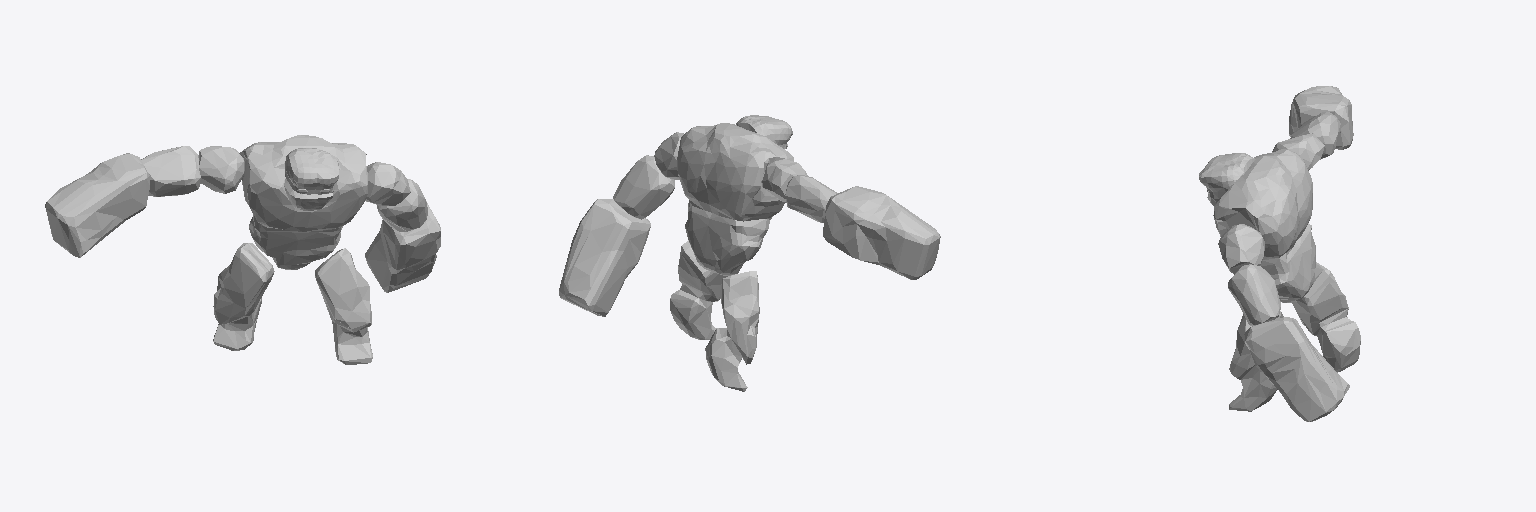
The model's file is Ataque1.obj.
The picture shows the model from 3 angles: view 1: azimuth 30°, elevation 25°; view 2: azimuth 150°, elevation 25°; view 3: azimuth 270°, elevation 25°; orthographic projection.
Parts seen in each view (by area): view 1: Stone1:Mesh; view 2: Stone1:Mesh; view 3: Stone1:Mesh.
Part boxes in pixels (x1,y1,x2,y2): Stone1:Mesh: (45,135,440,364); Stone1:Mesh: (559,115,940,391); Stone1:Mesh: (1199,86,1360,421).
Bounding box in the file's own units: 16.03 × 9.34 × 6.07.